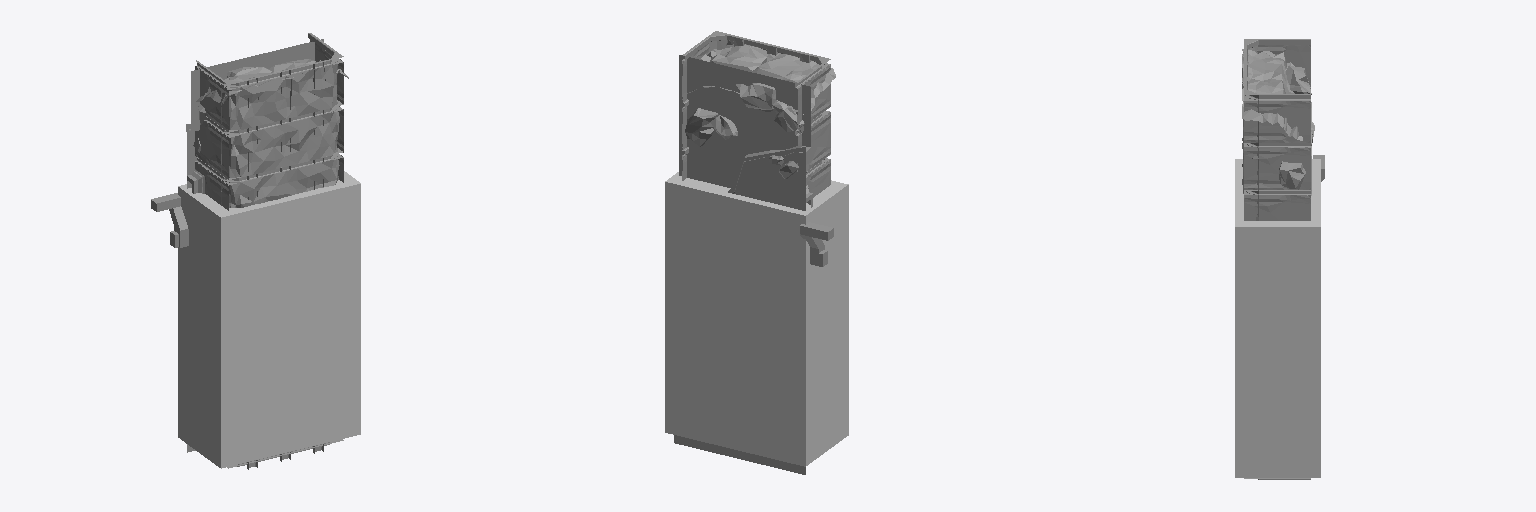
File: zmh_und_hangar.obj
The picture shows the model from 3 angles: view 1: azimuth 30°, elevation 25°; view 2: azimuth 150°, elevation 25°; view 3: azimuth 270°, elevation 25°; orthographic projection.
Visible parts, largest first — view 1: co_culling, g_bry_rock1, g_des_concrete, g_bry_concrete_floor_01; view 2: co_culling, g_bry_concrete_floor_01, g_bry_rock1, g_des_concrete, g_lava; view 3: co_culling, g_bry_rock1, g_des_concrete.
Boxes of the visible parts, box(x1,y1,x2,y2) form: co_culling: box(178, 171, 360, 468); g_bry_rock1: box(189, 40, 348, 210); g_des_concrete: box(151, 33, 343, 469); g_bry_concrete_floor_01: box(187, 39, 323, 452); co_culling: box(665, 172, 848, 466); g_bry_concrete_floor_01: box(674, 55, 810, 474); g_bry_rock1: box(682, 40, 835, 202); g_des_concrete: box(682, 31, 833, 266); g_lava: box(728, 147, 805, 194); co_culling: box(1235, 159, 1320, 477); g_bry_rock1: box(1242, 45, 1314, 220); g_des_concrete: box(1244, 39, 1324, 479).
Bounding box in the file's own units: 4000 × 9010 × 1900.